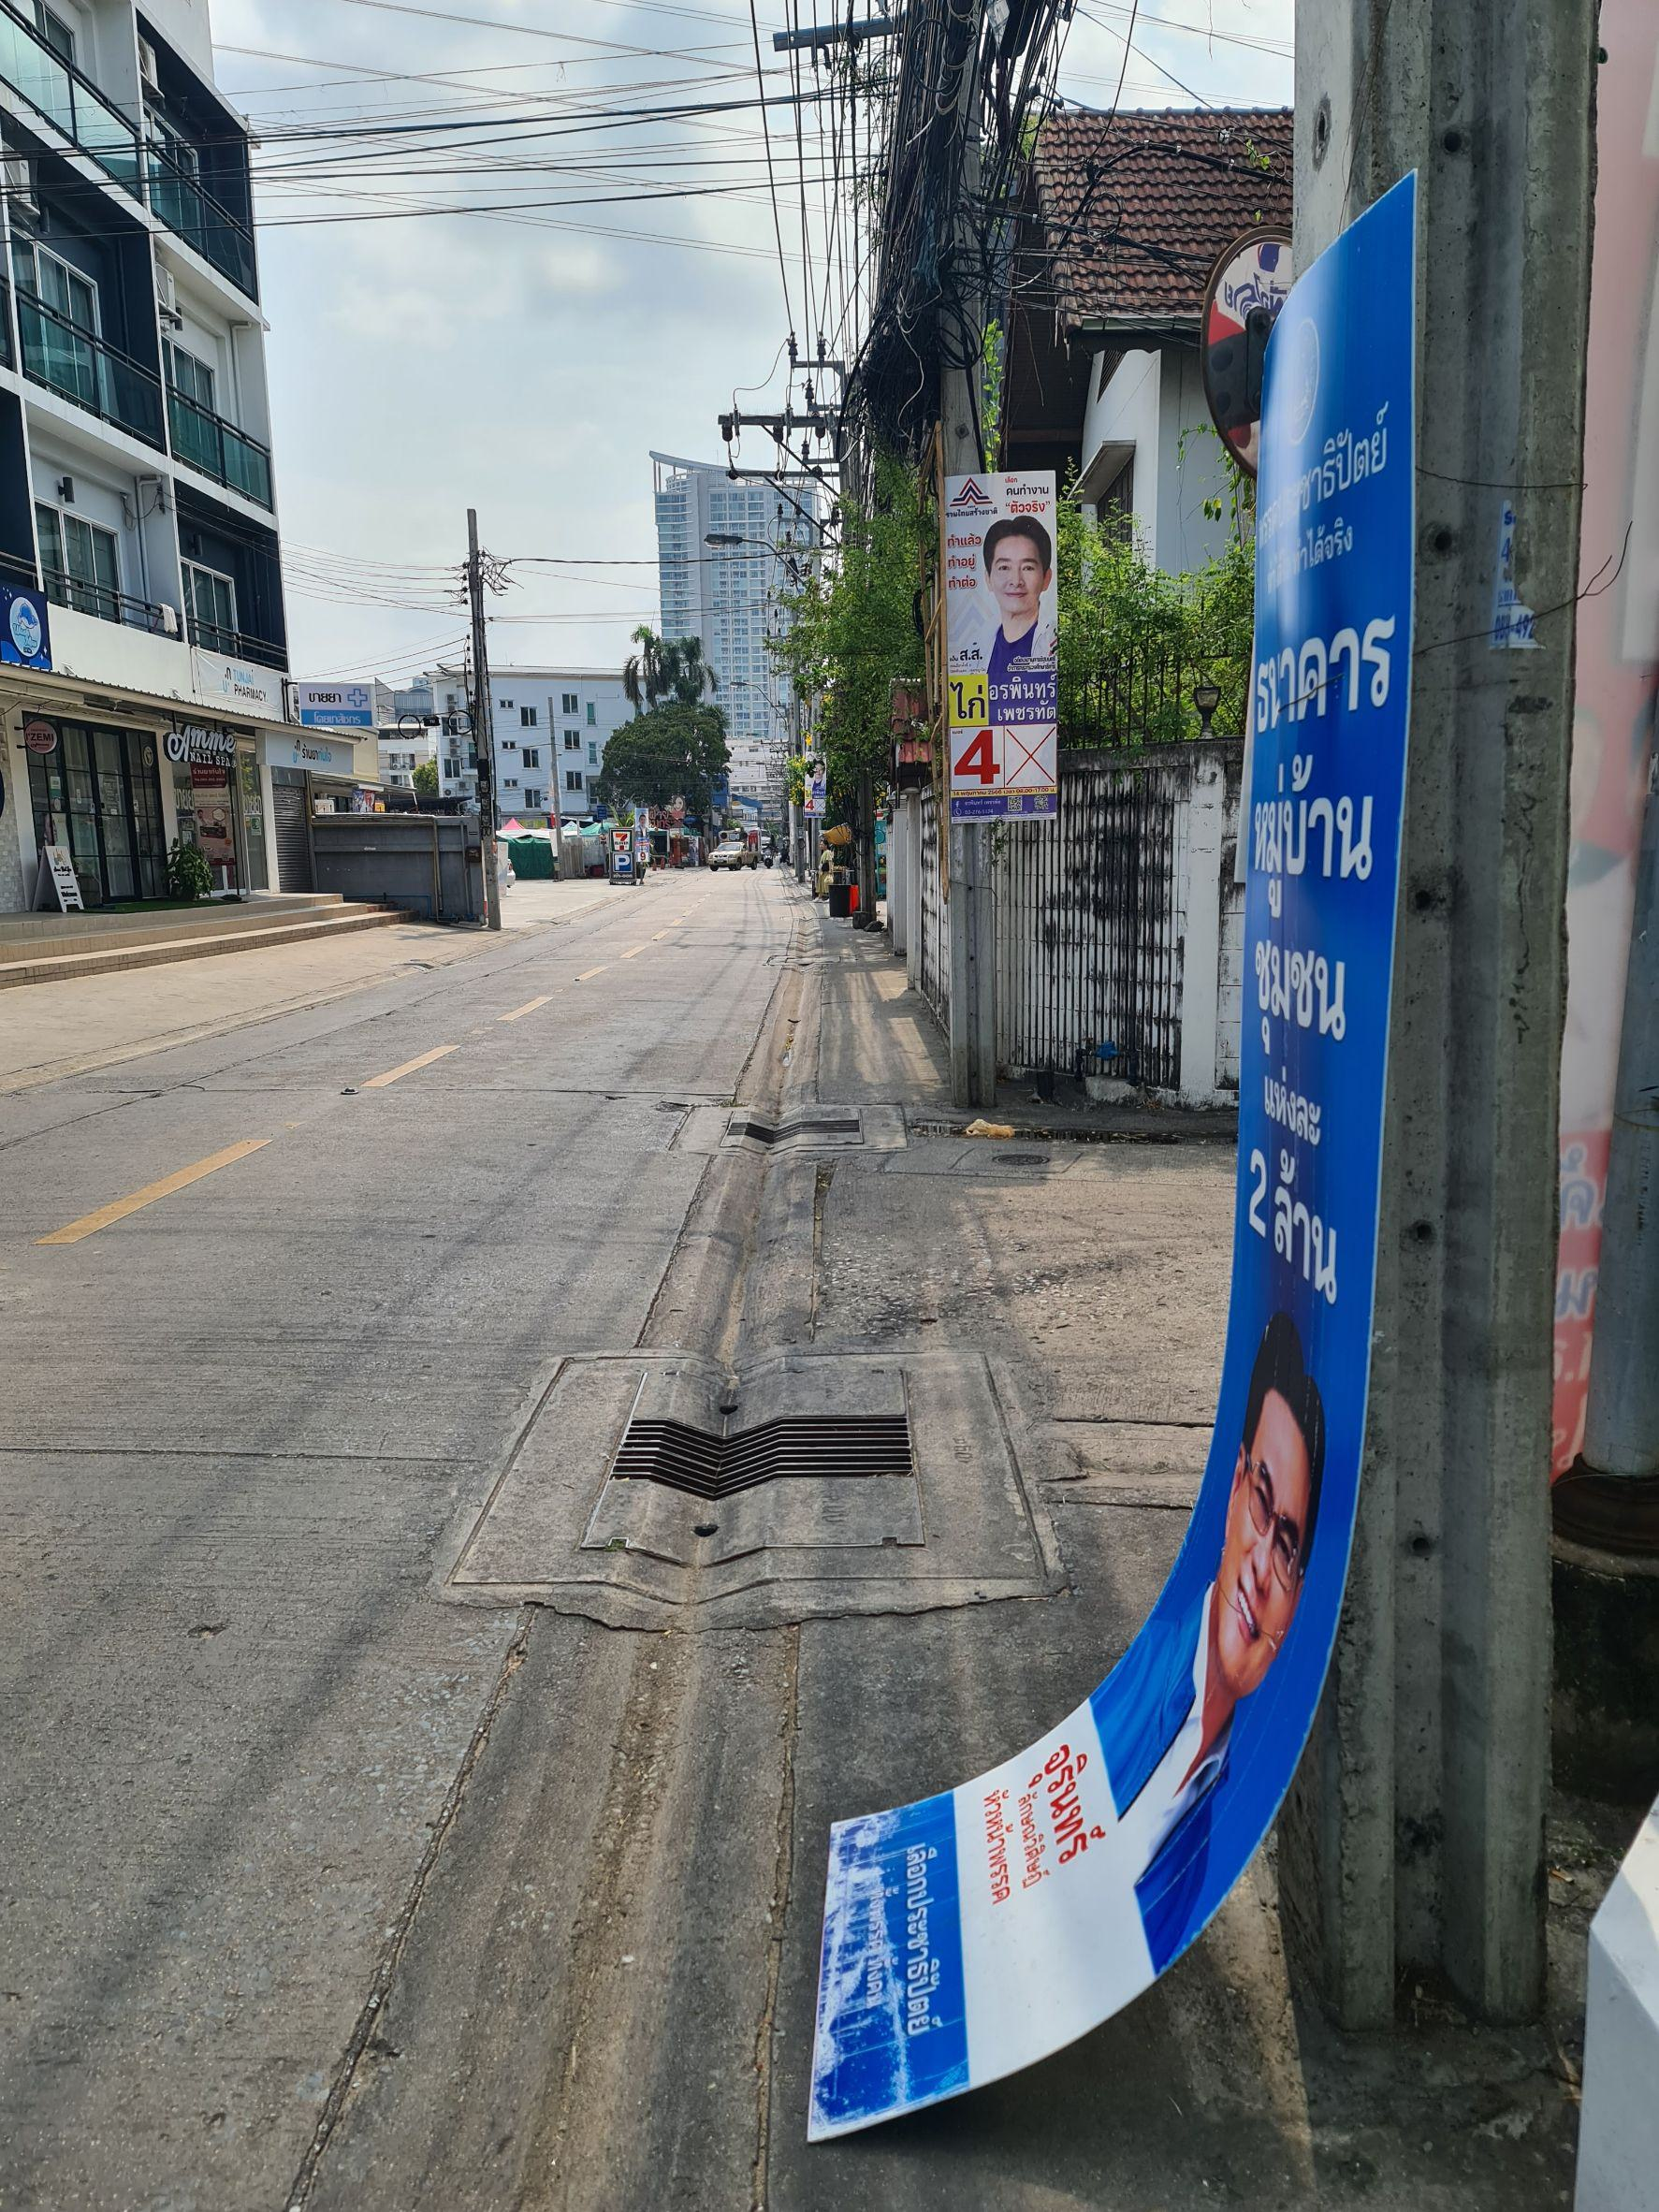Banner: (931, 465, 1066, 824)
